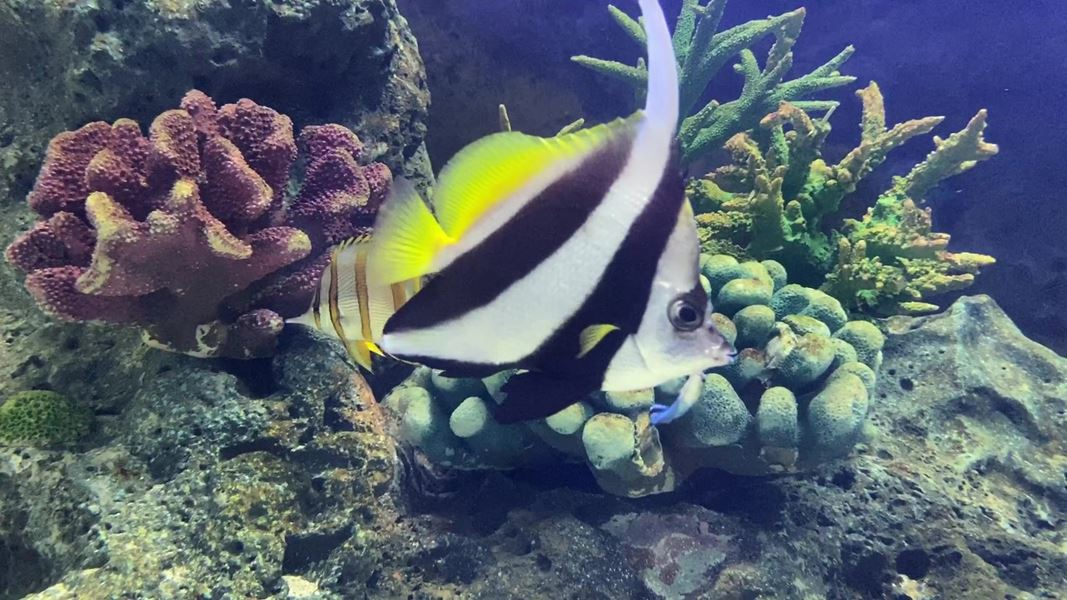Bluesteak cleaner wrasse: (633, 359, 718, 438)
